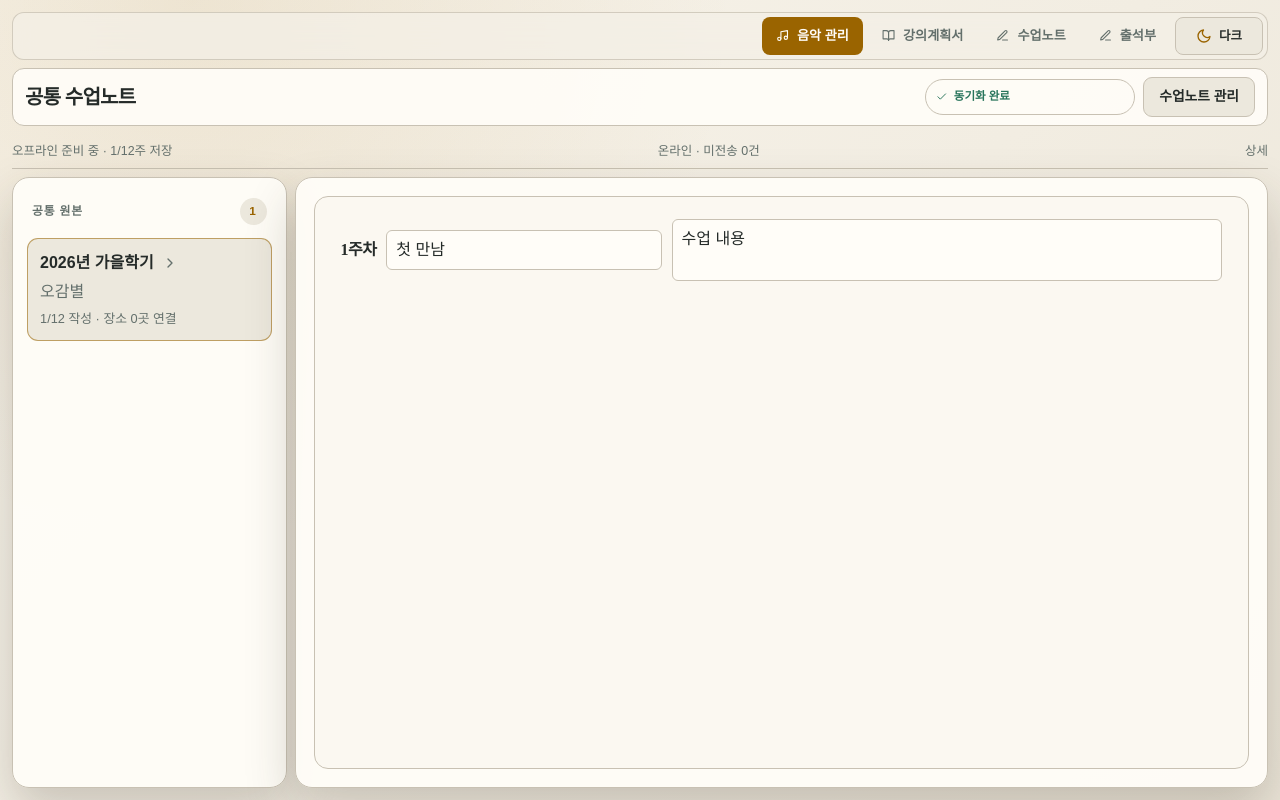
requires confirmation for online deletion and preserves linked-plan API behavior
expect the field named "1주차 공통 수업명" is shown: met, box 386,230 -> 662,270
Click the button "수업노트 관리".
click(1199, 97)  # box 1143,77 -> 1255,117
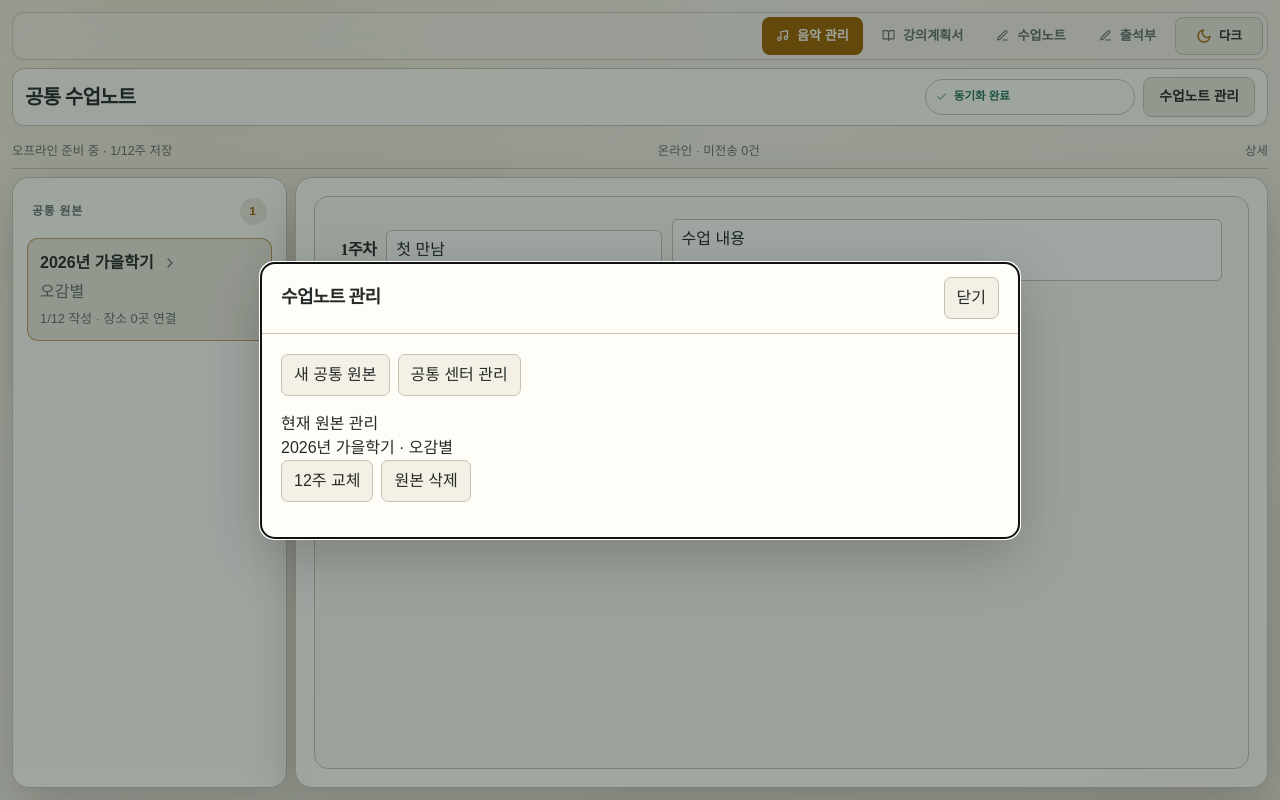
Click the button "원본 삭제".
click(426, 480)  # box 381,460 -> 471,502
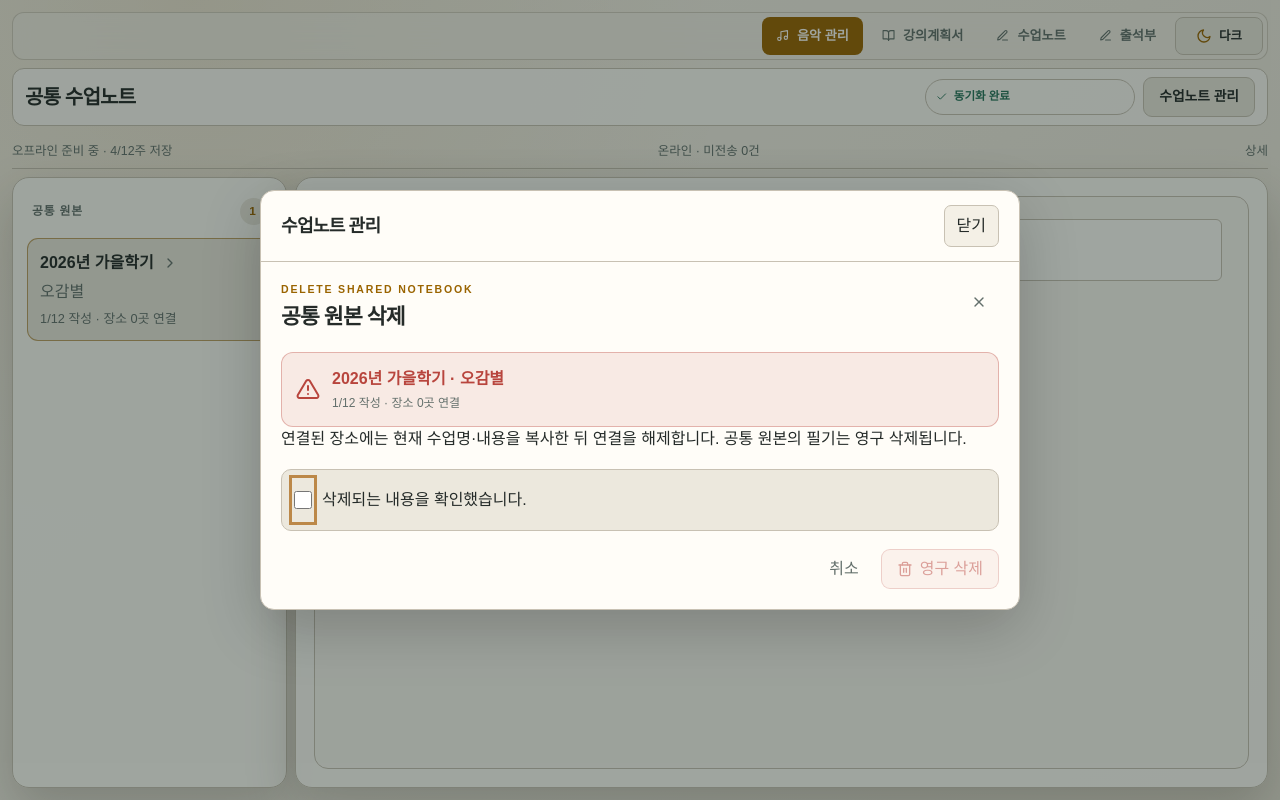
expect the button "영구 삭제" is disabled: met, box 881,549 -> 999,589
Click the checkbox labelled "삭제되는 내용을 확인했습니다.".
click(303, 500)  # box 294,480 -> 312,520
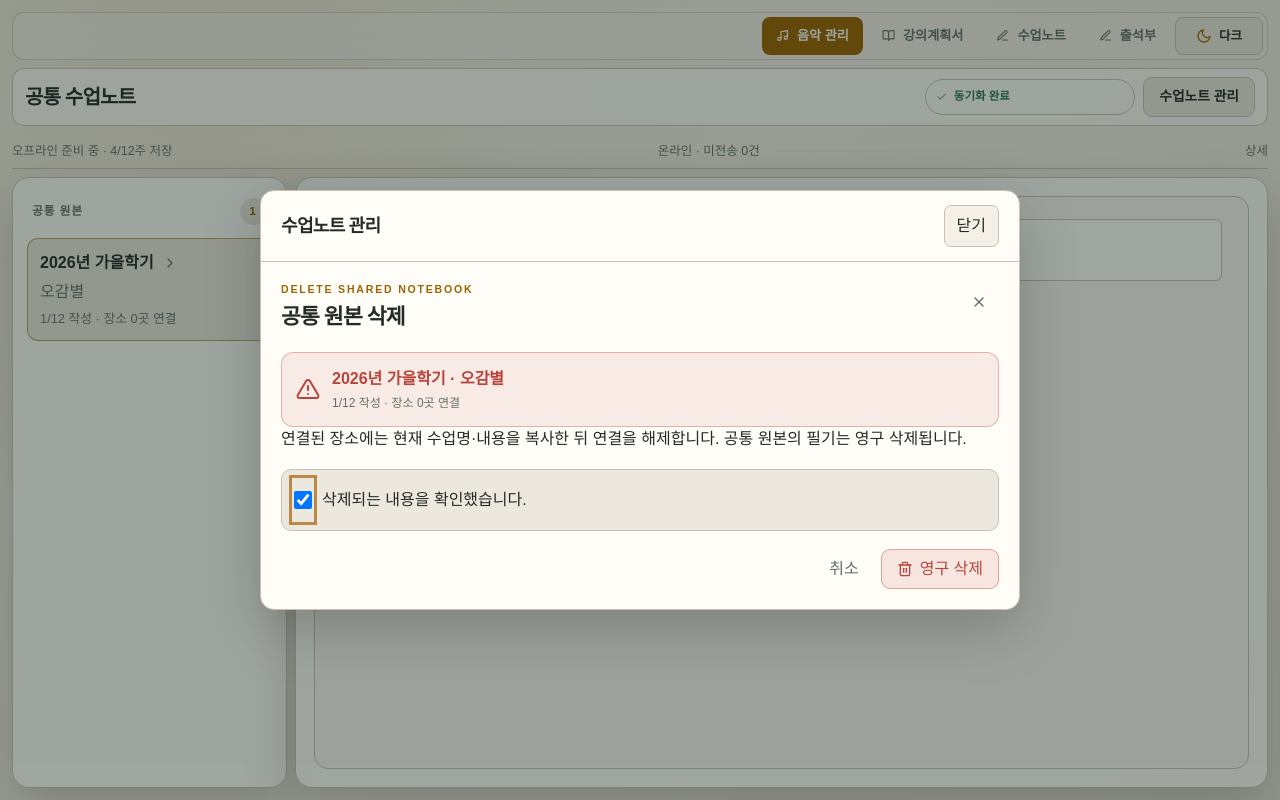
Click the button "영구 삭제".
click(940, 569)  # box 881,549 -> 999,589
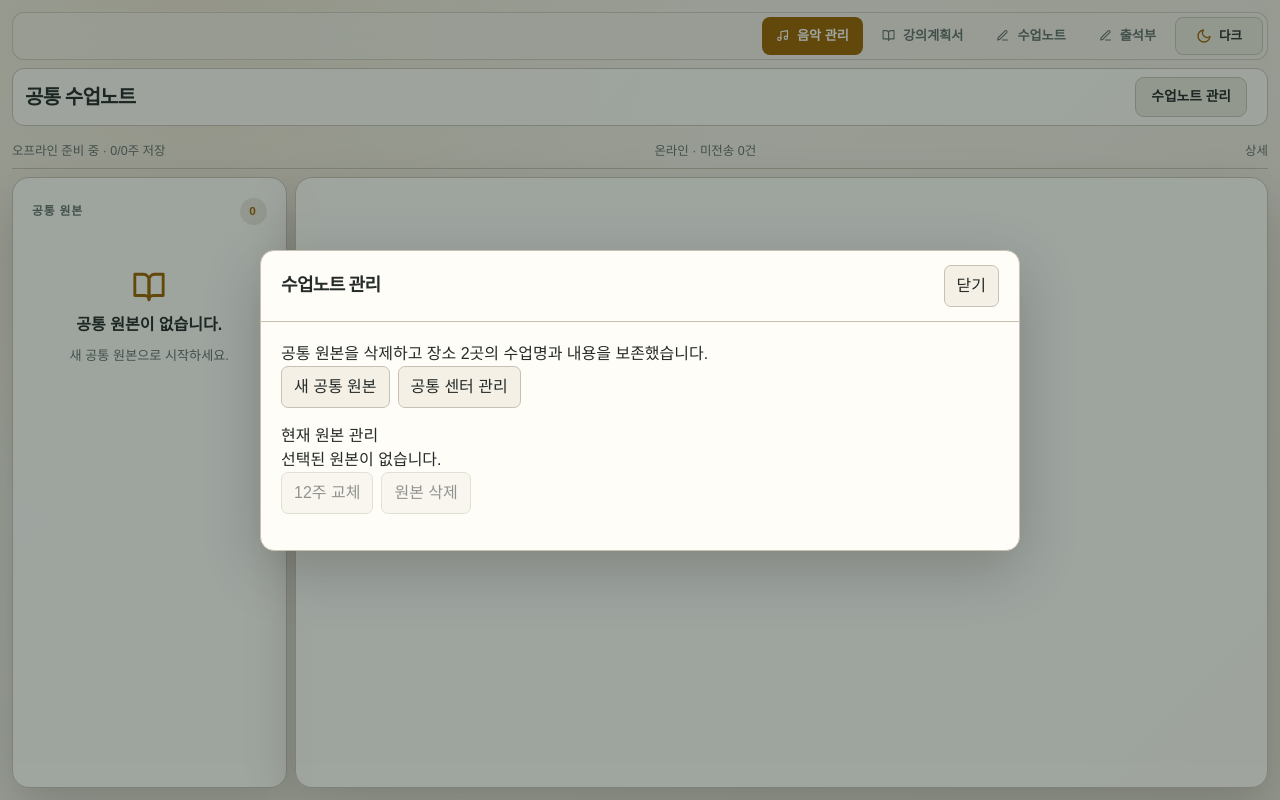
expect the text "공통 원본을 삭제하고 장소 2곳의 수업명과 내용을 보존했습니다." is shown: met, box 281,344 -> 708,362
